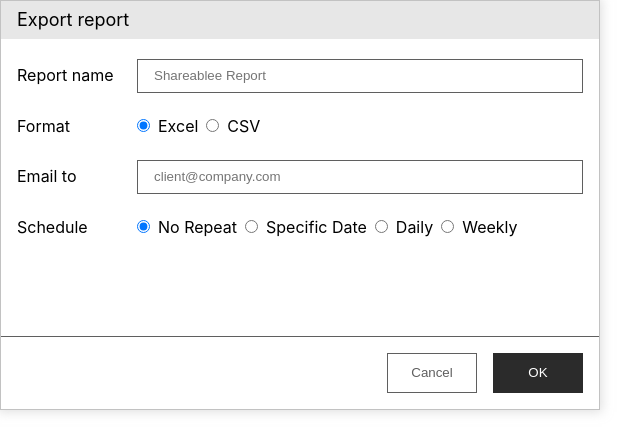
Test: ExportReportModal component › should load correct subcomponents
This screenshot has width=621, height=431.
Click the radio button with class "radio-button" showing "Specific Date" at point(252, 226), box [245,220,258,233]
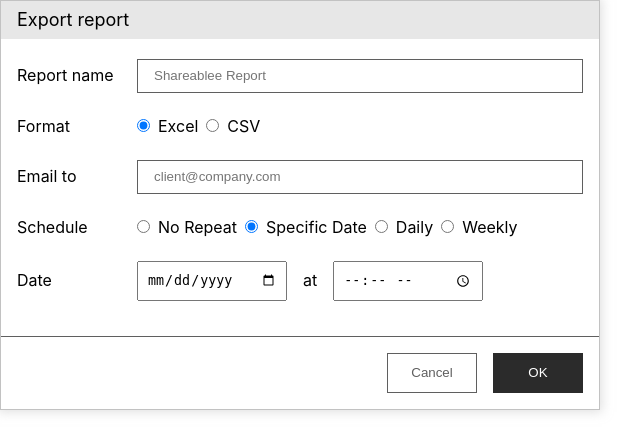
expect the element with test id "date" is shown: met, box [17,261,483,301]
Click the radio button with class "radio-button" showing "Daily" at point(381, 226), box [375,220,388,233]
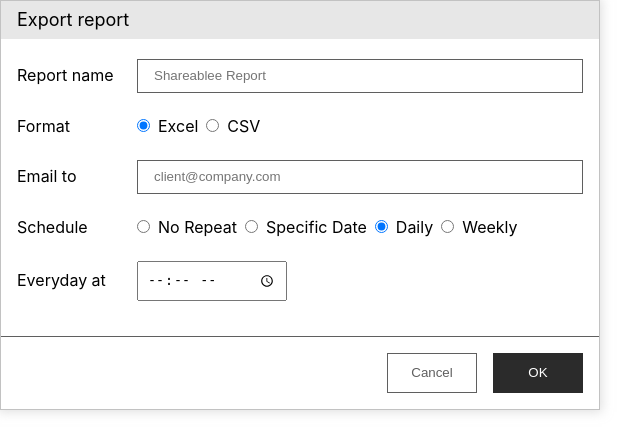
expect the element with test id "daily" is shown: met, box [17,261,287,301]
Click the radio button with class "radio-button" showing "Weekly" at point(448, 226), box [441,220,454,233]
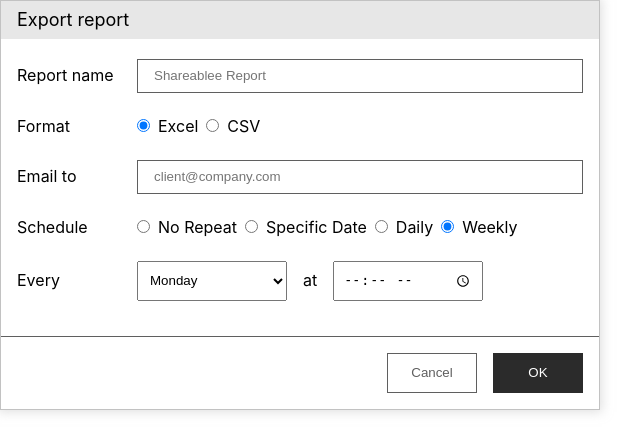
expect the element with test id "weekly" is shown: met, box [17,261,483,301]
